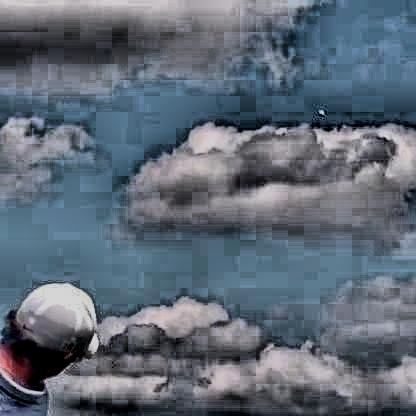golfball: (315, 107, 323, 114)
